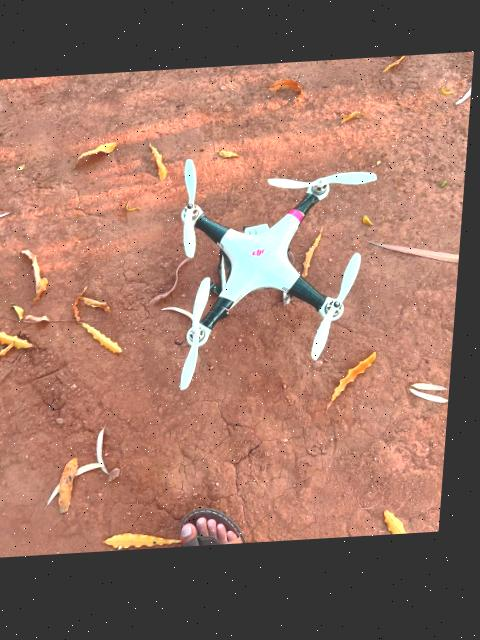drone: (155, 145, 393, 406)
